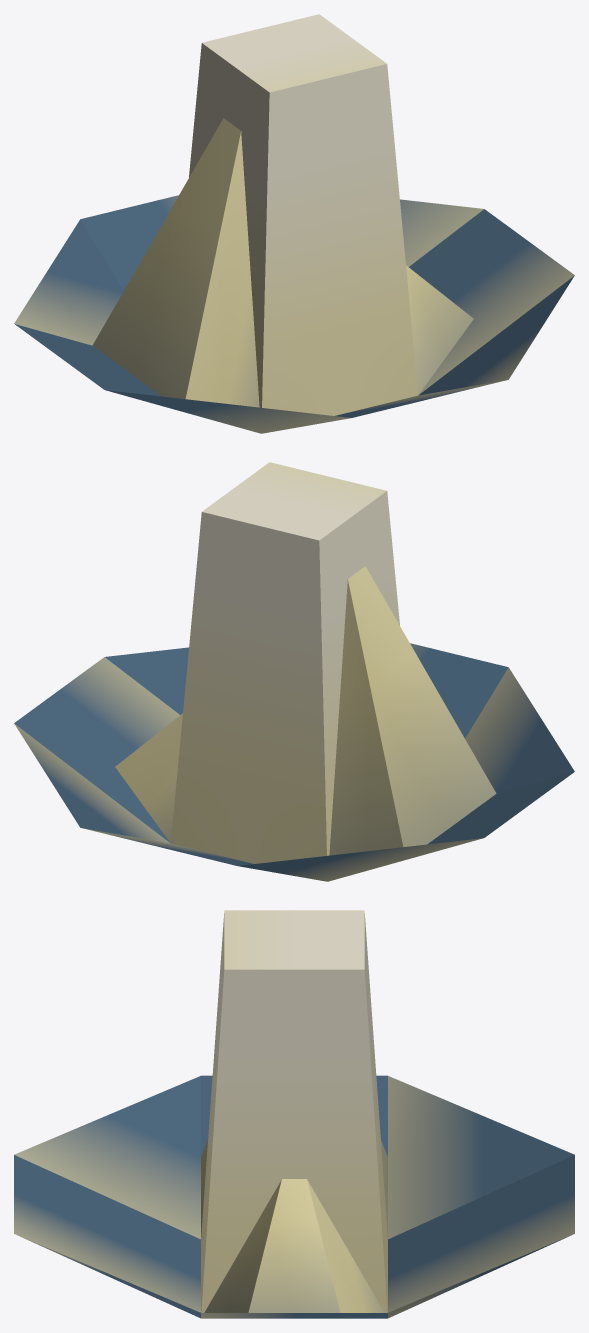
File: candle.obj
3 renders of one model, top to bottom at view 1: azimuth 30°, elevation 25°; view 2: azimuth 150°, elevation 25°; view 3: azimuth 270°, elevation 25°, orthographic. The views are drawn at different scales.
Parts seen in each view (by area): view 1: Default; view 2: Default; view 3: Default.
Part boxes in pixels (x1=…): Default: x1=14, y1=14, x2=574, y2=433; Default: x1=14, y1=462, x2=574, y2=881; Default: x1=14, y1=910, x2=574, y2=1318.
Size of the model in its own units: 0.375 by 0.25 by 0.375.
